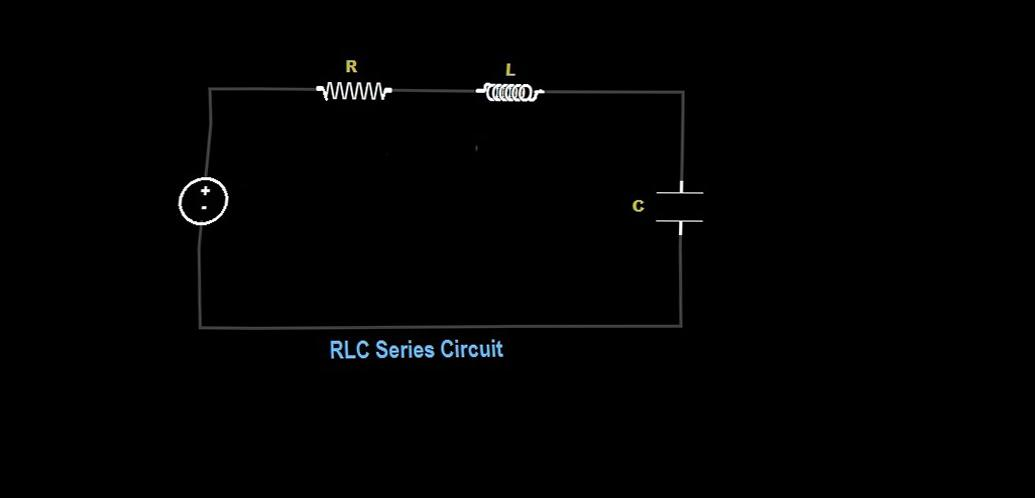Battery: (160, 157, 245, 251)
